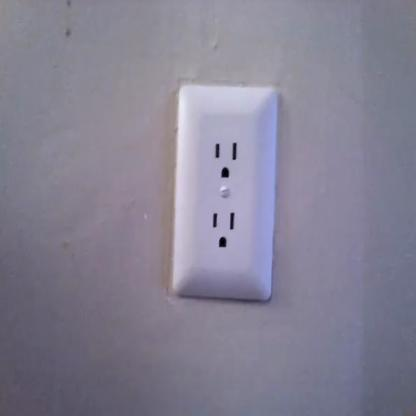OUTLET: (176, 86, 272, 300)
